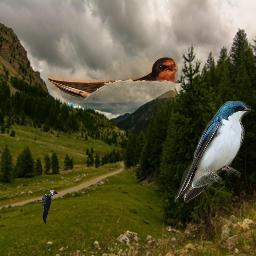Swallow: (175, 101, 251, 203), (48, 56, 178, 103)
Woodpecker: (35, 189, 58, 224)
